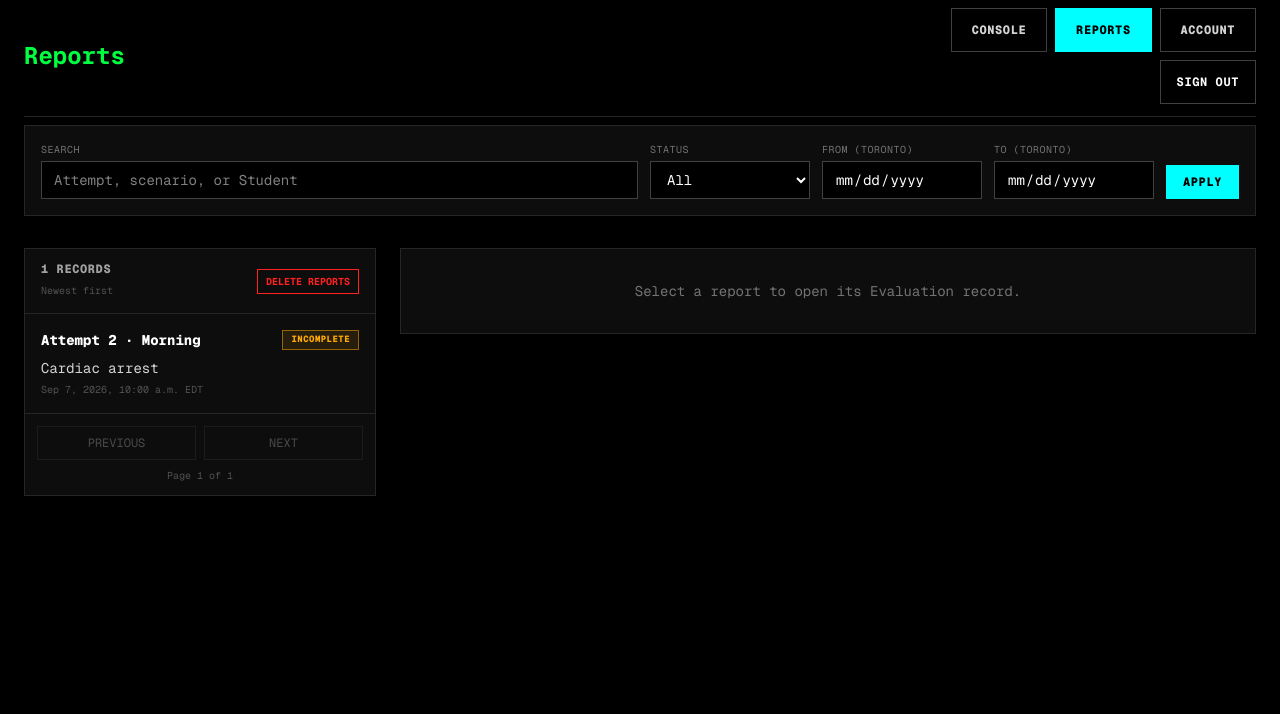
Test: ReportsPage › lists newest owner records, applies filters, and opens durable detail
The width and height of the screenshot is (1280, 714).
Check: the heading "1 records" is shown, box [41,261,113,277]
Check: the button "Sign Out" is shown, box [1160,60,1256,104]
Step 1. Type "Alice" into the field with placeholder "Attempt, scenario, or Student" → (340, 180), box [41,161,638,199]
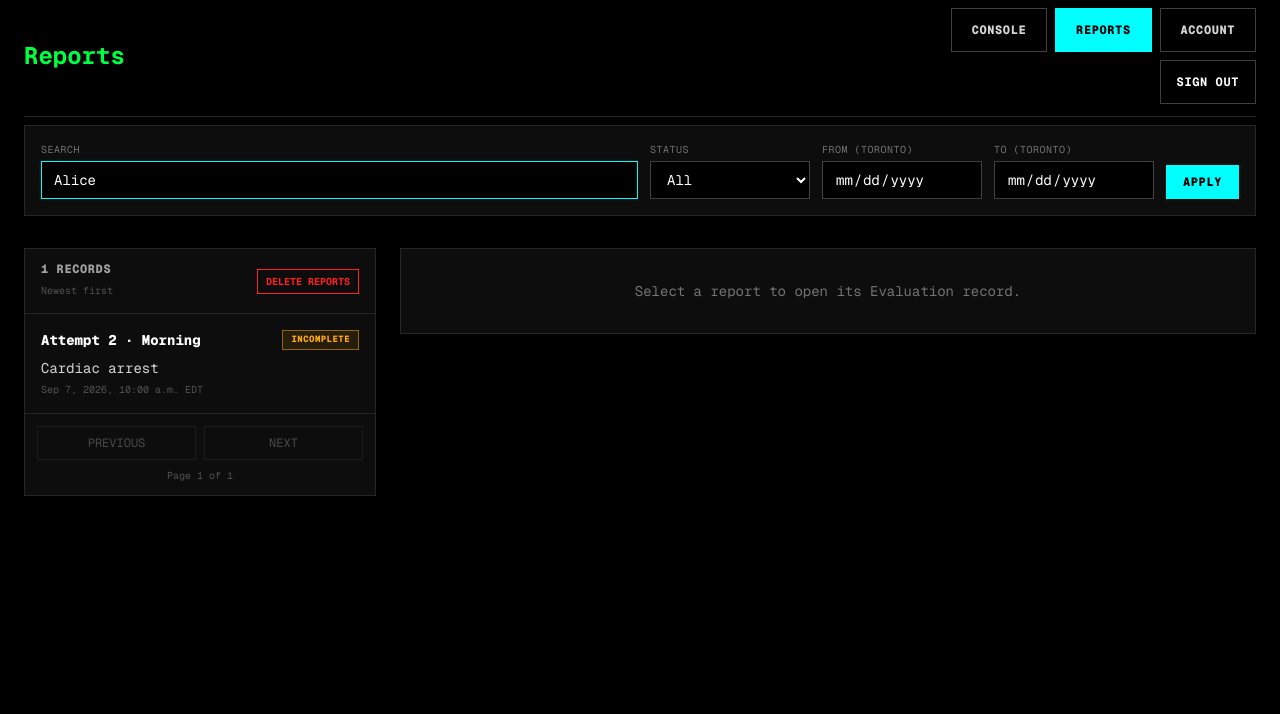
Step 2. Select "Incomplete" in the dropdown labelled "Status" → (730, 180), box [650,161,810,199]
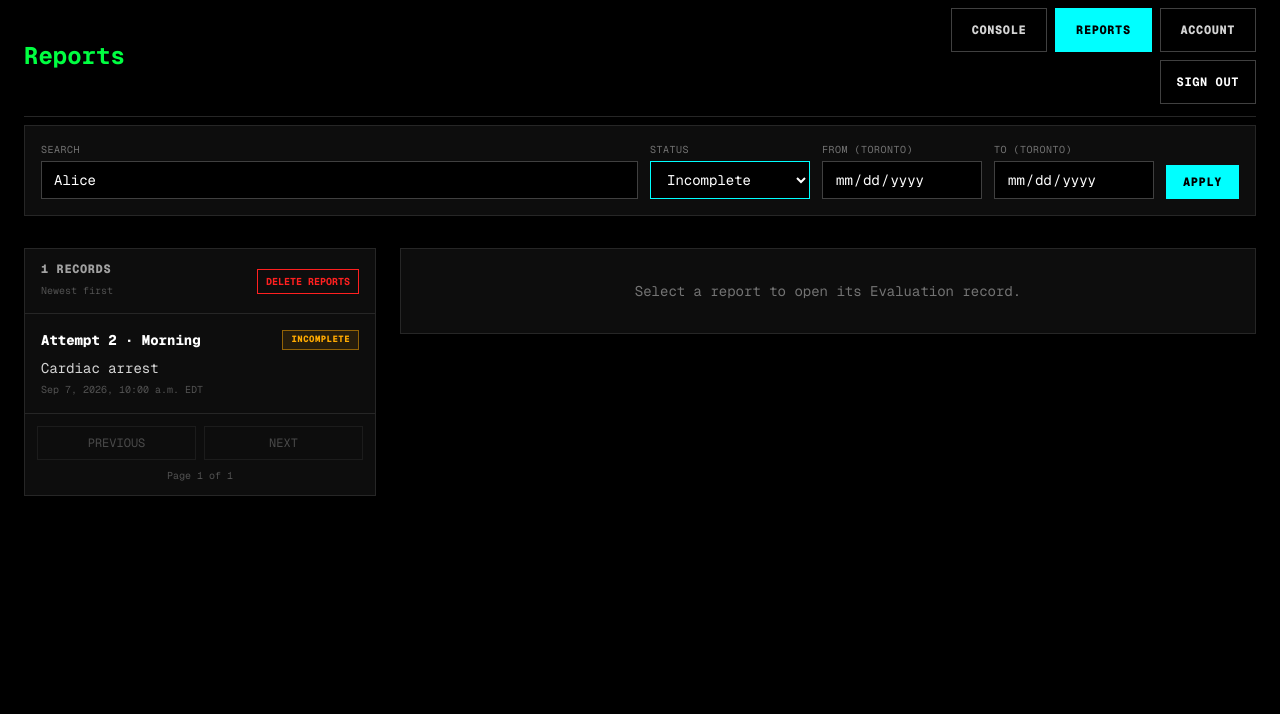
Step 3. Type "2026-09-01" into the date field labelled "From (Toronto)" → (902, 180), box [822,161,982,199]
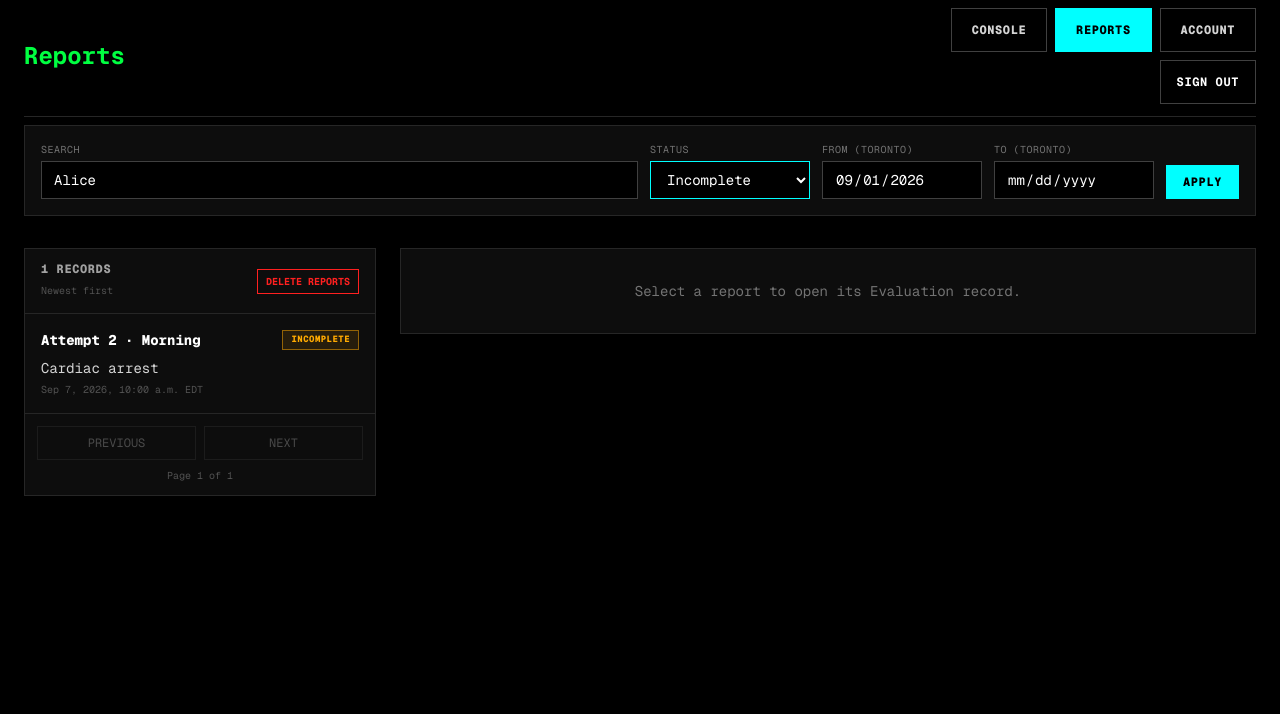
Step 4. Click the button "Apply" → (1202, 182), box [1166,165,1239,199]
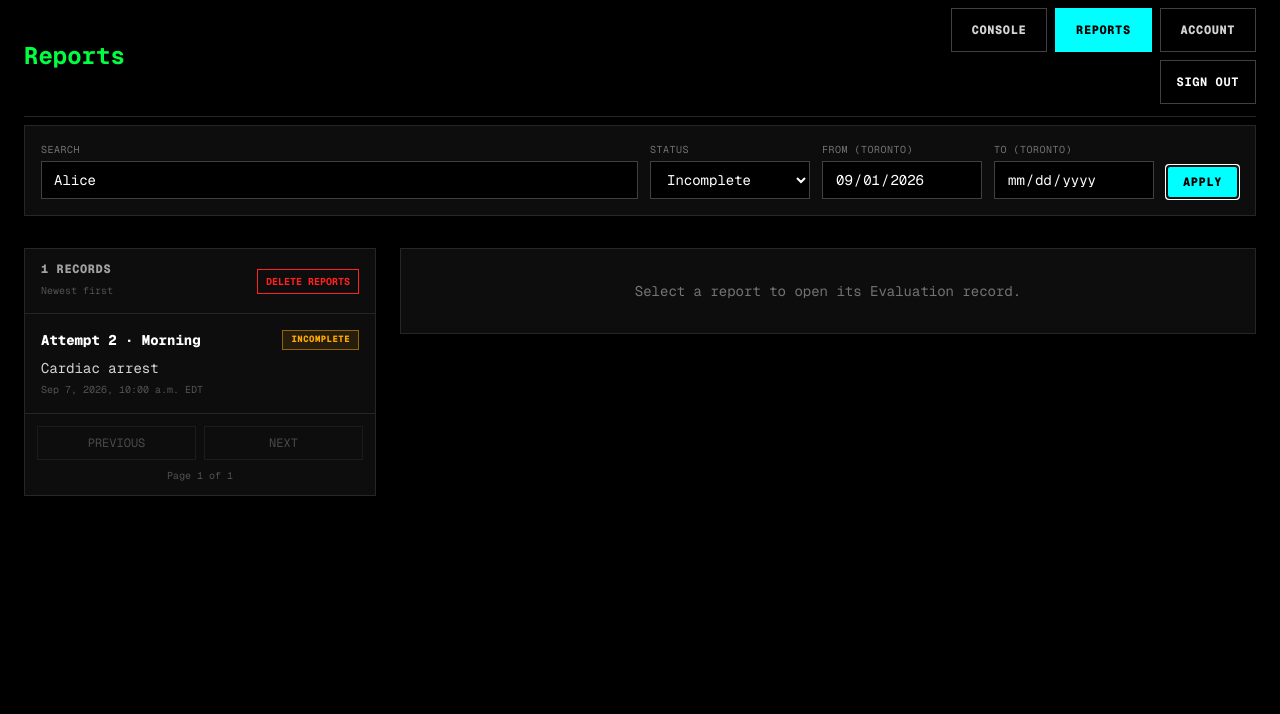
Step 5. Click the button "Attempt 2 · Morning" → (121, 340), box [25,314,375,413]
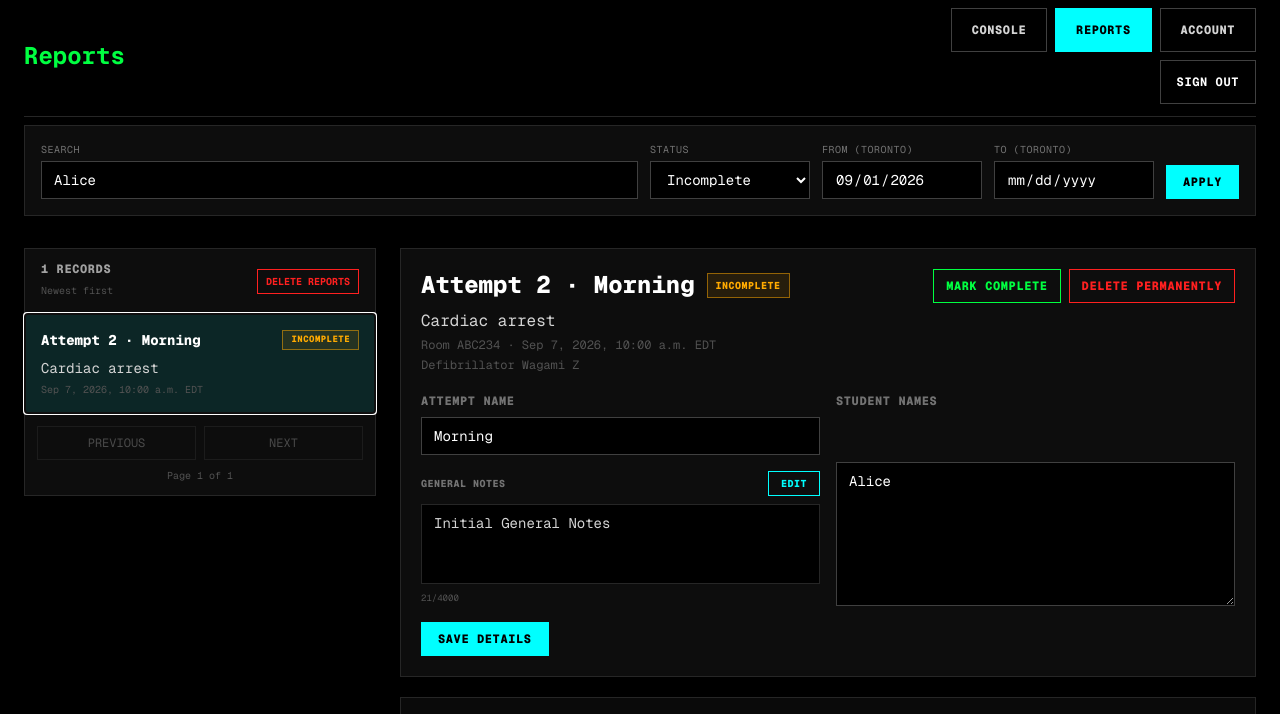
Check: the text box labelled "Student names" holds "Alice", box [836,462,1235,606]
Check: the text "Room ABC234 · Sep 7, 2026, 10:00 a.m. EDT" is shown, box [421,337,716,353]
Check: the text "Wagami Z" is shown, box [522,357,579,373]
